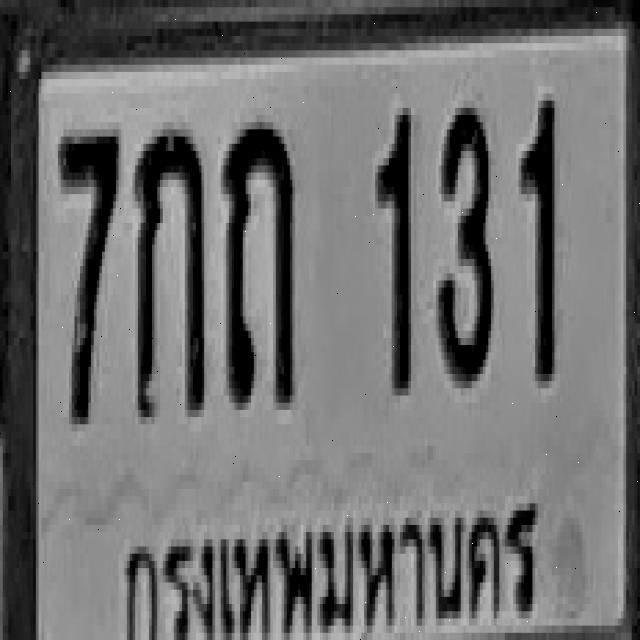1: (375, 107, 411, 396), (520, 94, 556, 382)
10GorGai: (135, 122, 204, 417)
3: (438, 101, 492, 381)
31ThorThung: (223, 118, 296, 406)
7: (58, 130, 118, 424)
Bangkok: (112, 486, 542, 640)
